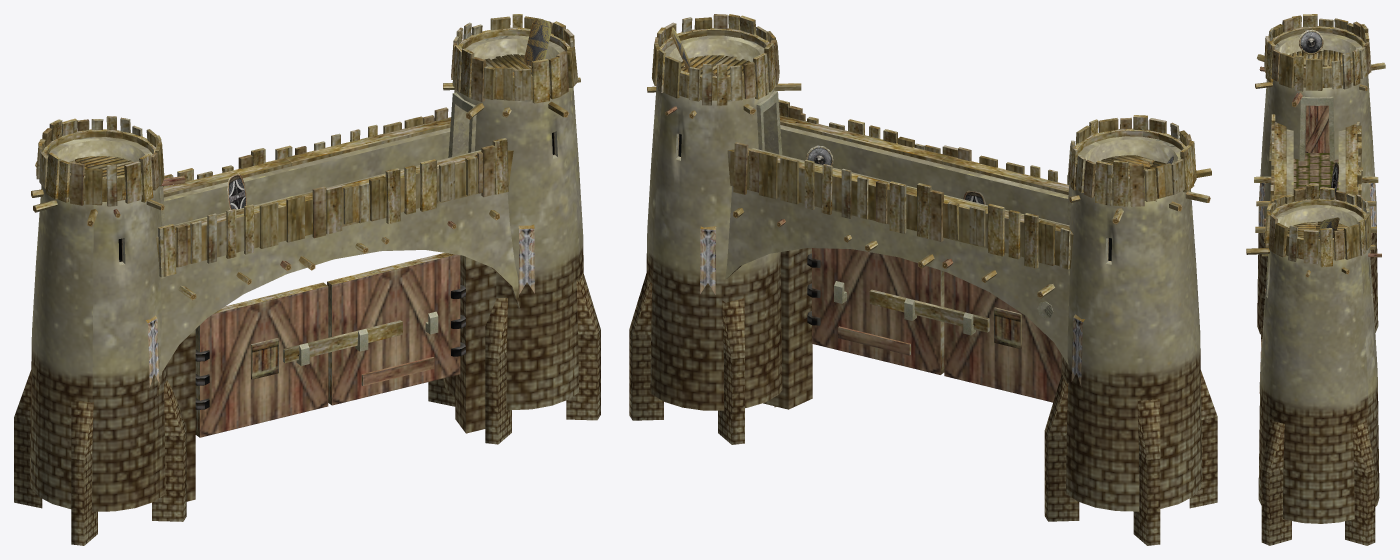
The model's file is s_iberians_wall_gate.glb.
3 renders of one model, left to right at view 1: azimuth 30°, elevation 25°; view 2: azimuth 150°, elevation 25°; view 3: azimuth 270°, elevation 25°, orthographic. The views are drawn at different scales.
Parts seen in each view (by area): view 1: s_iberians_wall_gate_part0, s_iberians_wall_gate_part1; view 2: s_iberians_wall_gate_part0, s_iberians_wall_gate_part1; view 3: s_iberians_wall_gate_part0, s_iberians_wall_gate_part1.
Part boxes in pixels (x1,y1,x2,y2): s_iberians_wall_gate_part0: (14, 14, 600, 545); s_iberians_wall_gate_part1: (70, 18, 552, 209); s_iberians_wall_gate_part0: (629, 14, 1217, 545); s_iberians_wall_gate_part1: (671, 27, 1174, 204); s_iberians_wall_gate_part0: (1246, 14, 1385, 545); s_iberians_wall_gate_part1: (1299, 29, 1339, 238).
Bounding box in the file's own units: 9.08 × 5.92 × 2.35.
2 materials, 2 textured.
